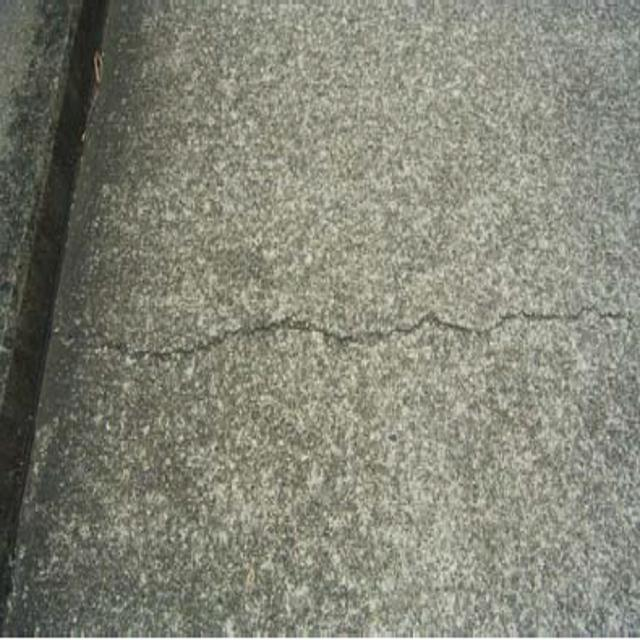crack: (52, 292, 637, 367)
